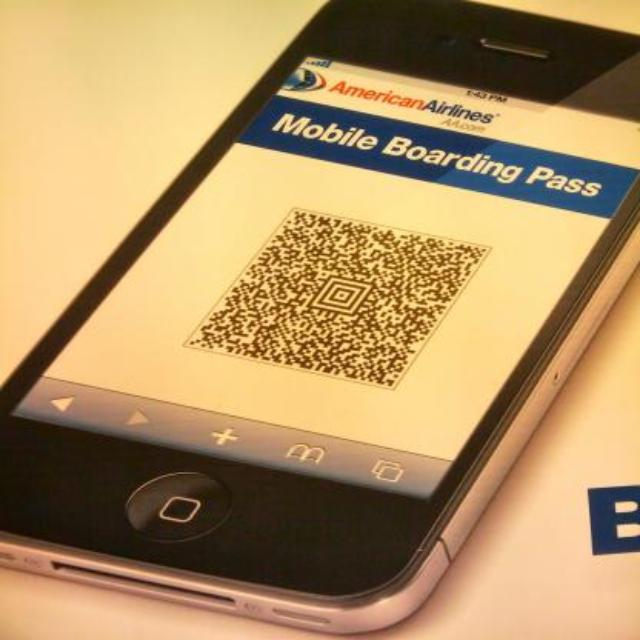Smartphone: (2, 2, 604, 640)
